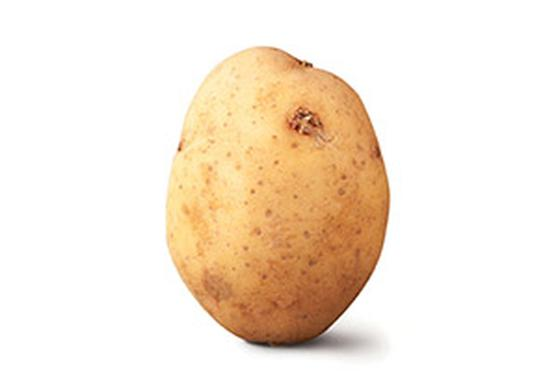potato: (166, 39, 408, 349)
